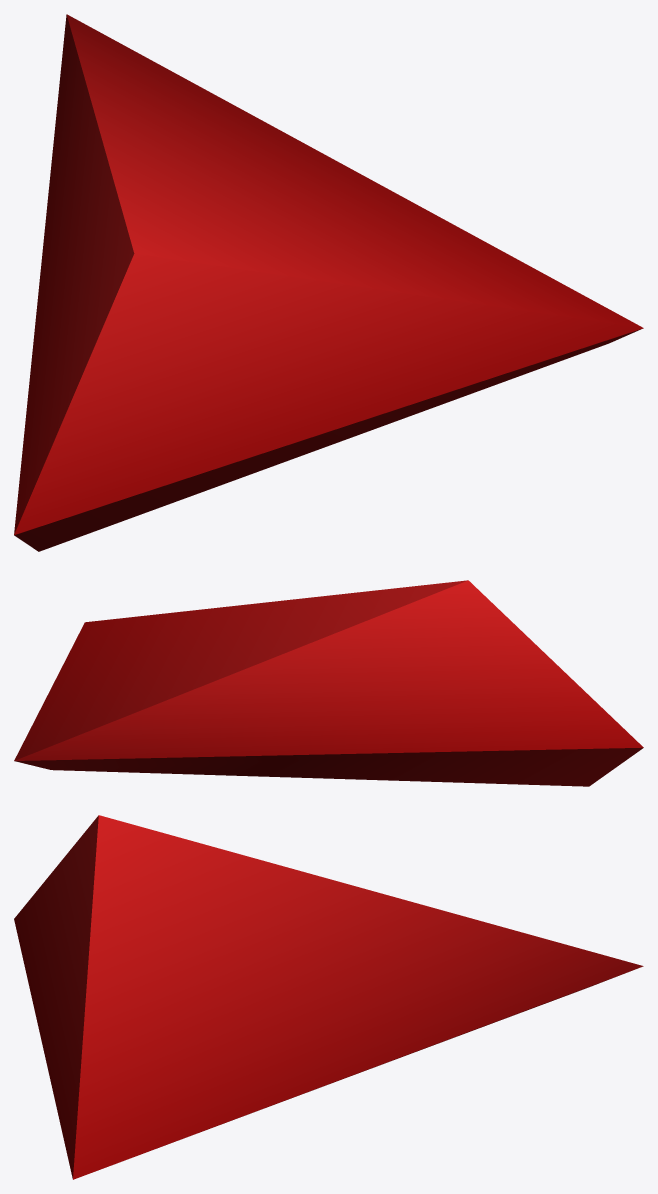
The model's file is c_roof_triangle_ac.fbx.
3 renders of one model, top to bottom at view 1: azimuth 30°, elevation 25°; view 2: azimuth 150°, elevation 25°; view 3: azimuth 270°, elevation 25°, orthographic. The views are drawn at different scales.
Parts seen in each view (by area): view 1: c_roof_triangle_ac; view 2: c_roof_triangle_ac; view 3: c_roof_triangle_ac.
Part boxes in pixels (x1,y1,x2,y2): c_roof_triangle_ac: (14, 14, 643, 551); c_roof_triangle_ac: (14, 580, 643, 786); c_roof_triangle_ac: (14, 815, 643, 1179).
Size of the model in its own units: 9.03 by 3.22 by 8.65.
